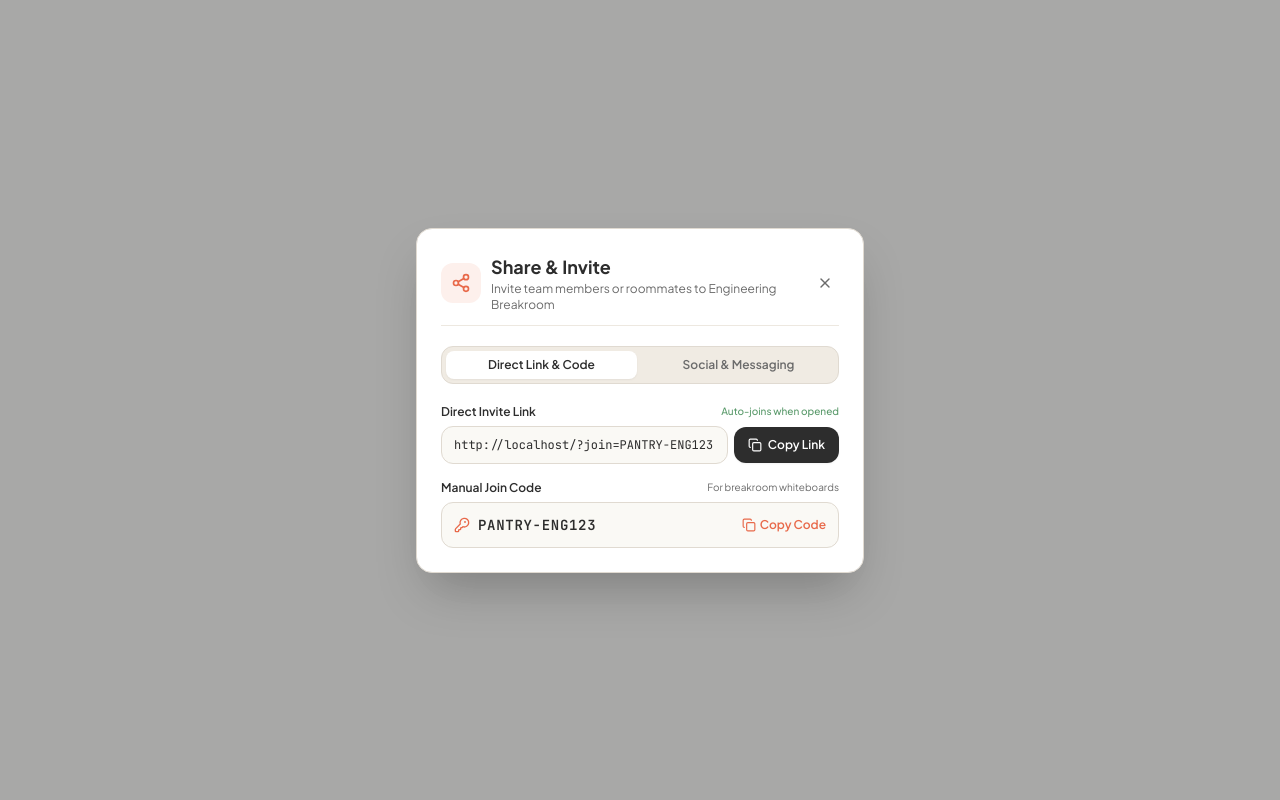
Scenario: Pool Sharing & Joining Engine › SharePoolModal Component › switches to Social & Messaging tab and displays channel options
Click the button "Social & Messaging" at (738, 364), box [643,350,834,378]
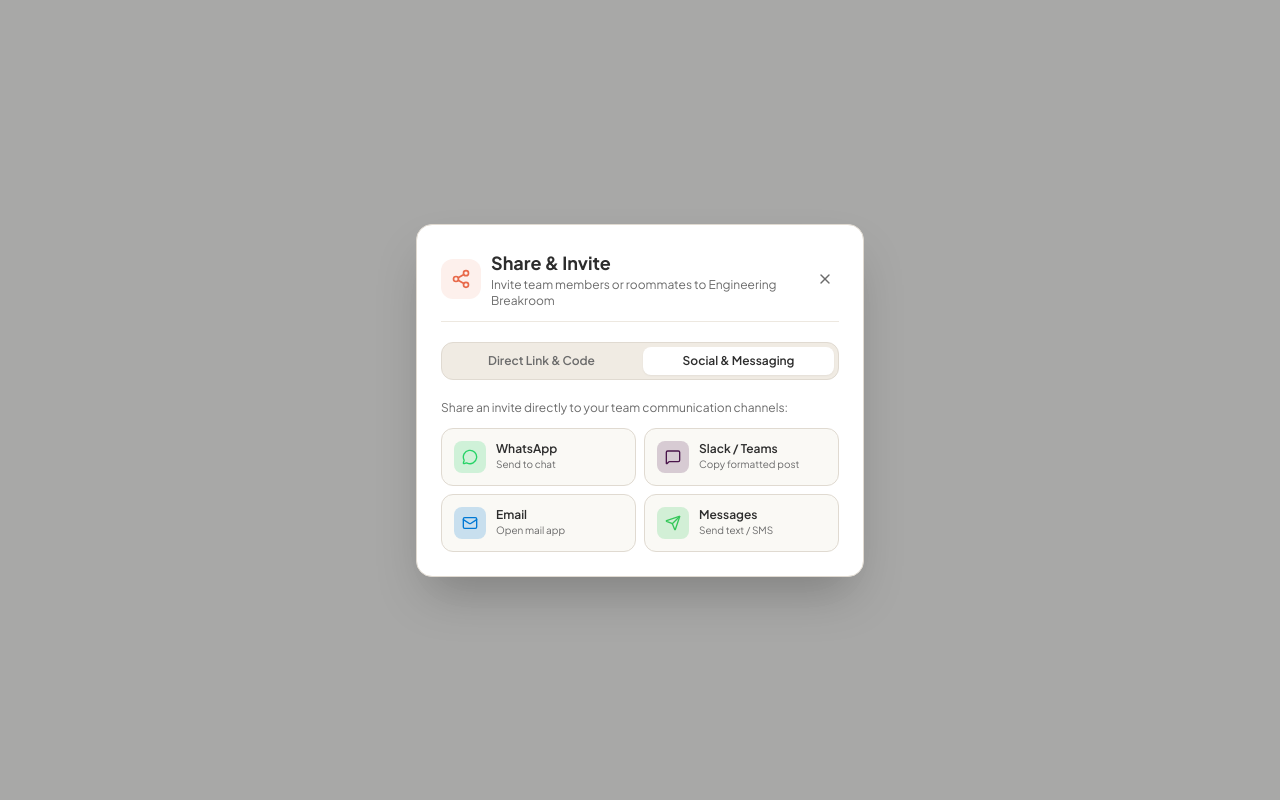
Expected: the text "WhatsApp" is shown, [496,441,557,457]
Expected: the text "Slack / Teams" is shown, [699,441,778,456]
Expected: the text "Email" is shown, [496,507,527,522]
